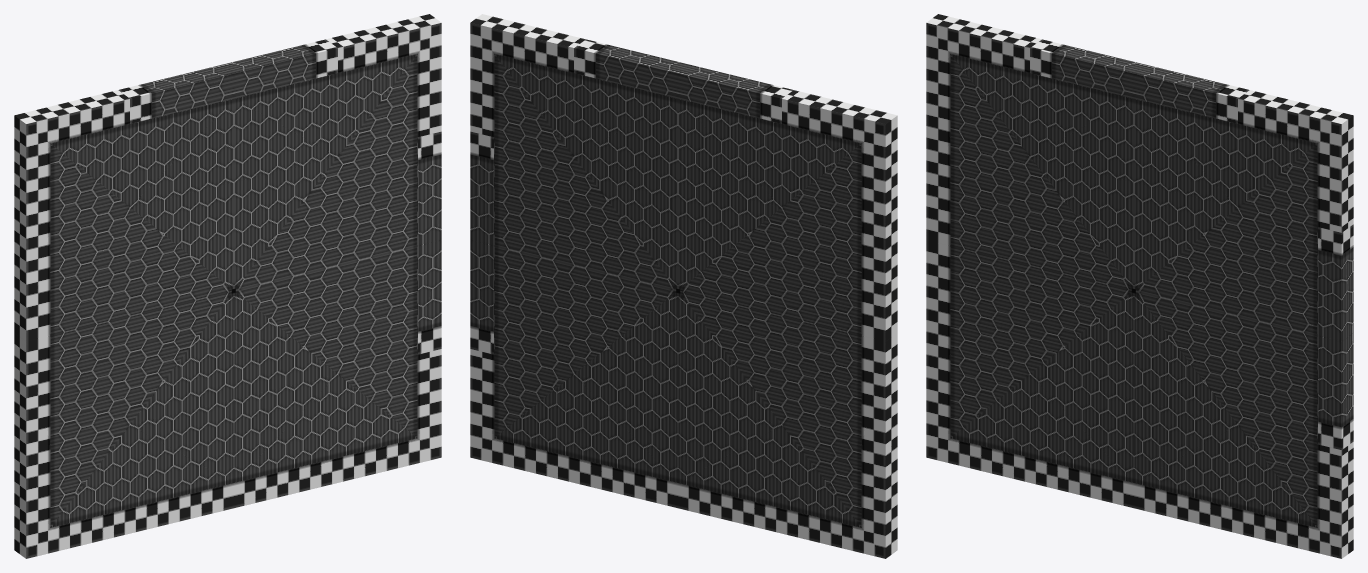
Rendered from walkway_finish_adjacent.obj.
The picture shows the model from 3 angles, left to right: view 1: azimuth 30°, elevation 25°; view 2: azimuth 150°, elevation 25°; view 3: azimuth 330°, elevation 25°; orthographic projection.
Visible parts, largest first — view 1: walkway_finish_adjacent; view 2: walkway_finish_adjacent; view 3: walkway_finish_adjacent.
Part boxes in pixels (x1,y1,x2,y2): walkway_finish_adjacent: (14, 14, 441, 558); walkway_finish_adjacent: (470, 14, 897, 558); walkway_finish_adjacent: (926, 14, 1353, 558).
Size of the model in its own units: 3048 by 3048 by 152.
